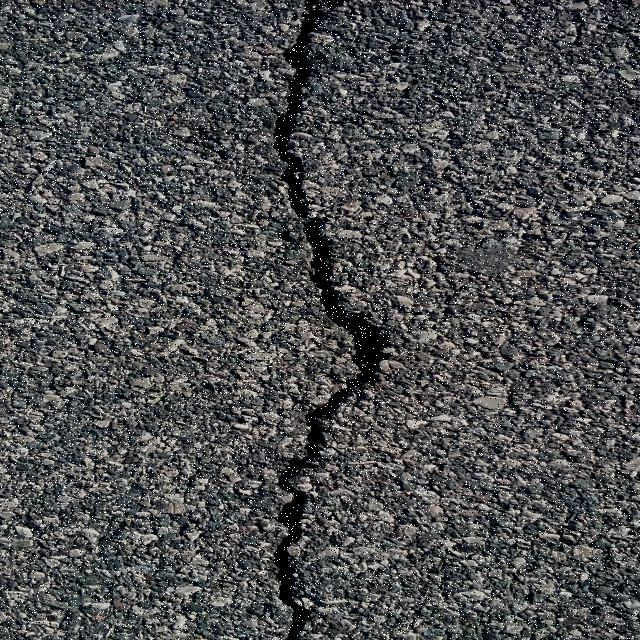Crack: (269, 0, 400, 640)
